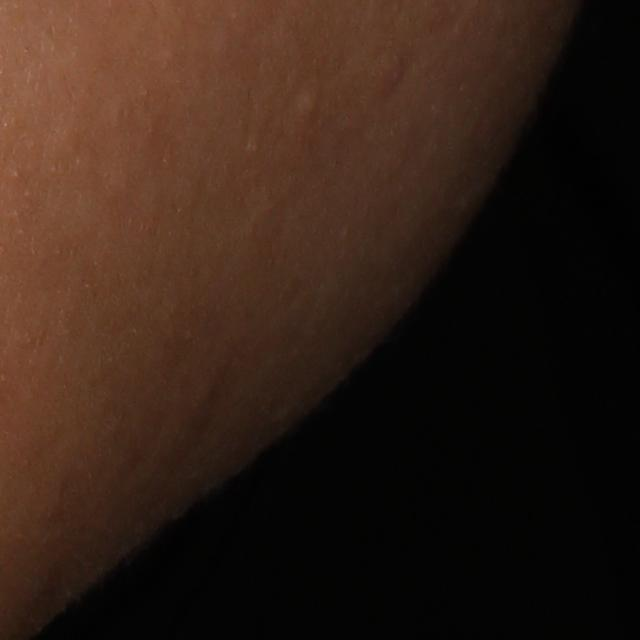comedo: (294, 91, 322, 120)
